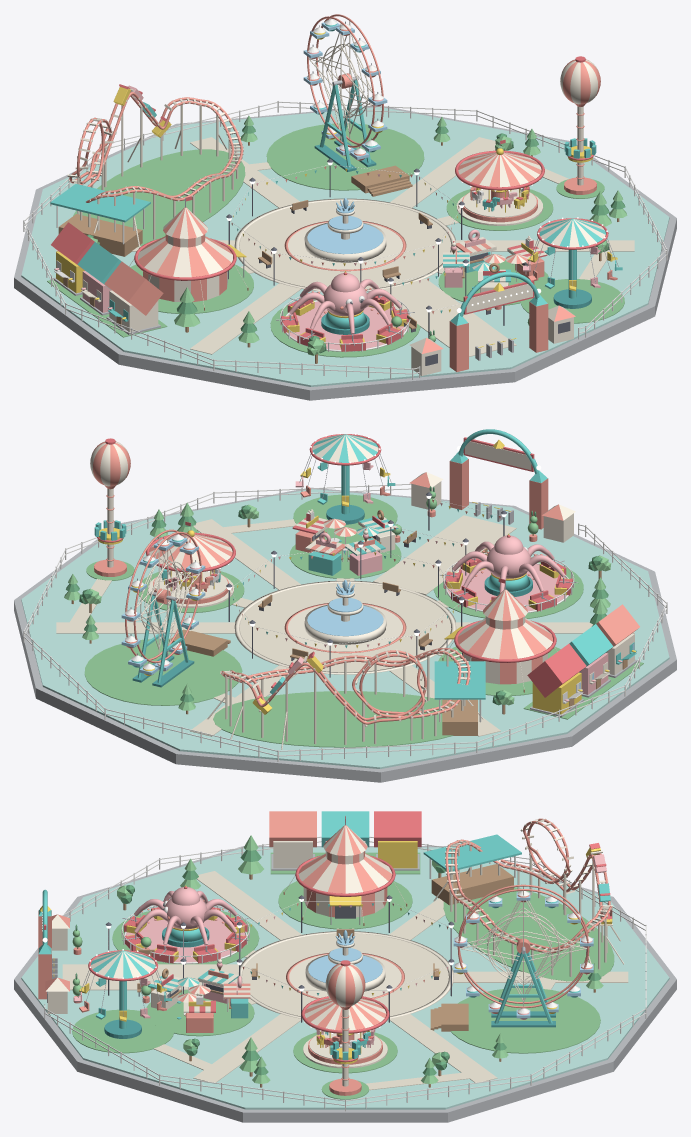
Rendered from park.glb.
3 views of the same model, one above another, from view 1: azimuth 30°, elevation 25°; view 2: azimuth 150°, elevation 25°; view 3: azimuth 270°, elevation 25° (orthographic). The views are drawn at different scales.
Parts seen in each view (by area): view 1: Base_Island, Base_Rim, Base_Plaza, Pad_coaster, Pad_ferris, RollerCoaster, Base_Boulevard, BT_RoofLower, CR_Canopy, RollerCoaster_StationRoof, Base_Path_3, Pad_swing (+39 smaller); view 2: Base_Island, Base_Rim, Pad_coaster, Base_Plaza, Pad_ferris, Base_Boulevard, RollerCoaster, BT_RoofLower, RollerCoaster_Rail2, RollerCoaster_StationRoof, RollerCoaster_Rail, Base_Path_5 (+44 smaller); view 3: Base_Island, Base_Rim, Base_Plaza, Pad_coaster, Pad_ferris, RollerCoaster, BT_RoofLower, Pad_bigtop, Pad_swing, Base_Boulevard, Base_Path_3, Pad_food (+40 smaller).
Part boxes in pixels (x1,y1,x2,y2): Base_Island: (21,107,669,386); Base_Rim: (14,105,676,400); Base_Plaza: (239,201,451,289); Pad_coaster: (73,149,245,247); Pad_ferris: (266,123,424,190); RollerCoaster: (67,84,243,247); Base_Boulevard: (383,278,516,356); BT_RoofLower: (138,236,232,277); CR_Canopy: (458,152,541,187); RollerCoaster_StationRoof: (50,184,150,222); Base_Path_3: (190,283,301,354); Pad_swing: (521,279,624,323); Base_Island: (21,489,669,768); Base_Rim: (14,487,676,782); Pad_coaster: (213,691,453,747); Base_Plaza: (239,583,451,672); Pad_ferris: (84,638,242,705); Base_Boulevard: (373,515,516,594); RollerCoaster: (207,647,483,749); BT_RoofLower: (458,618,552,659); RollerCoaster_Rail2: (221,648,470,724); RollerCoaster_StationRoof: (434,661,485,699); RollerCoaster_Rail: (230,651,461,720); Base_Path_5: (193,519,300,589); Base_Island: (21,847,669,1109); Base_Rim: (14,846,676,1122); Base_Plaza: (242,933,448,1016); Pad_coaster: (443,887,614,981); Pad_ferris: (450,988,600,1053); RollerCoaster: (429,818,624,976); BT_RoofLower: (298,853,392,893); Pad_bigtop: (278,881,412,929); Pad_swing: (72,1009,173,1053); Base_Boulevard: (62,964,238,990); Base_Path_3: (197,871,301,940); Pad_food: (146,990,254,1036).
Bounding box in the file's own units: 50.82 × 12.93 × 53.2.
